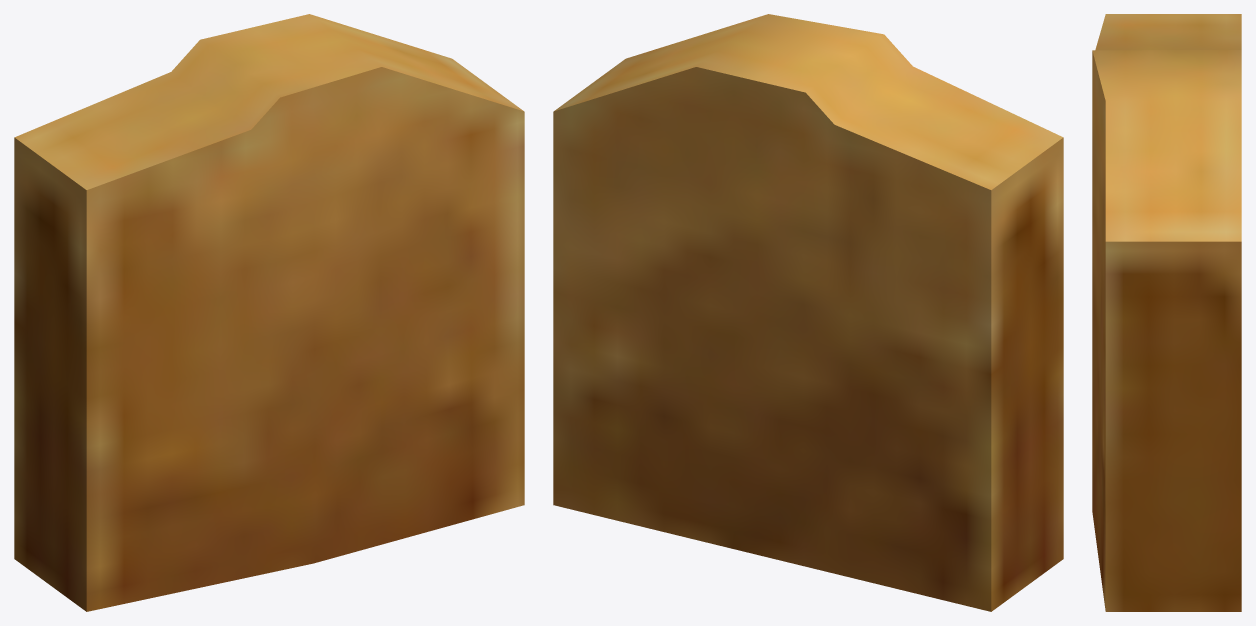
File: Stage_ShaMo_XiaoShiKuai04.FBX
The picture shows the model from 3 angles, left to right: view 1: azimuth 30°, elevation 25°; view 2: azimuth 150°, elevation 25°; view 3: azimuth 270°, elevation 25°; orthographic projection. The views are drawn at different scales.
Parts seen in each view (by area): view 1: Stage_ShaMo_XiaoShiKuai04; view 2: Stage_ShaMo_XiaoShiKuai04; view 3: Stage_ShaMo_XiaoShiKuai04.
Boxes of the visible parts, x1,y1,x2,y2 form: Stage_ShaMo_XiaoShiKuai04: [14, 14, 524, 611]; Stage_ShaMo_XiaoShiKuai04: [553, 14, 1063, 611]; Stage_ShaMo_XiaoShiKuai04: [1092, 14, 1241, 611].
Bounding box in the file's own units: 68.53 × 70.9 × 21.5.
